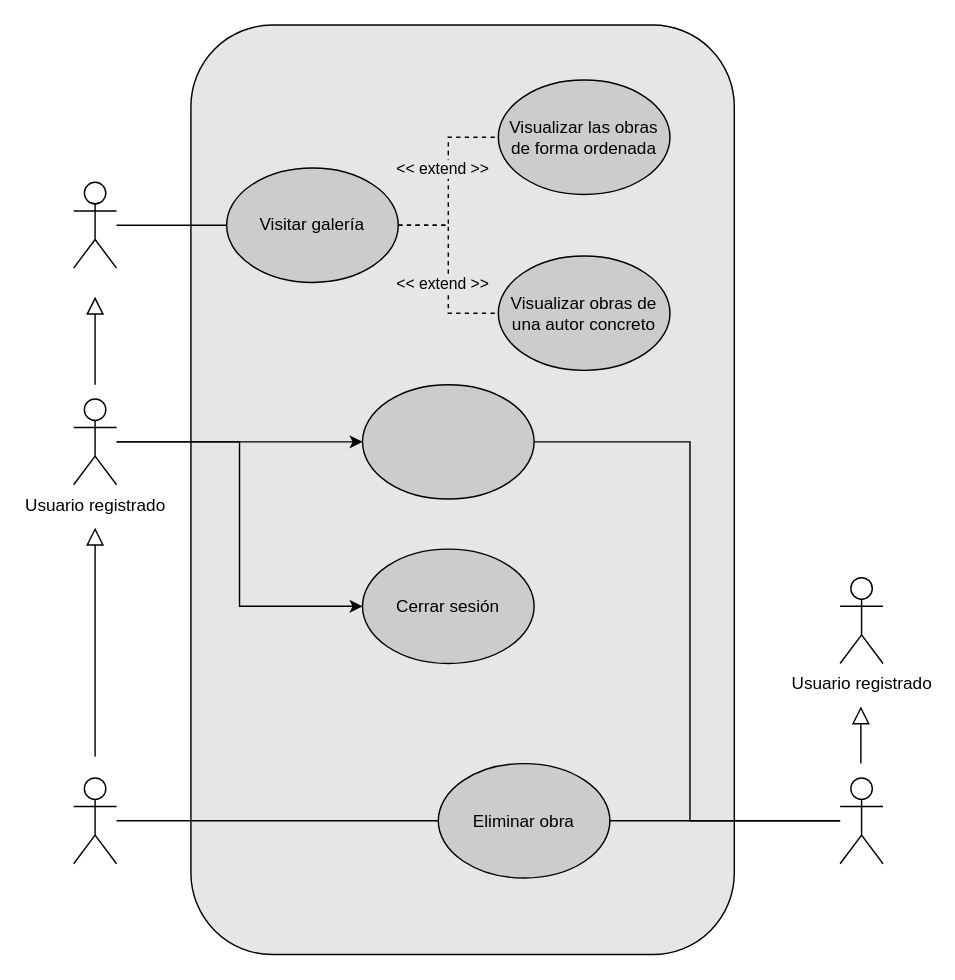
Some shapes in this 955 by 980 pixel diagram are drawn without their labels. The centre of each missing label's shape, as x and y in pixels:
Administrador: pixel 861 820
Artista: pixel 94 820
Eliminar valoración: pixel 447 441
Usuario: pixel 94 224
